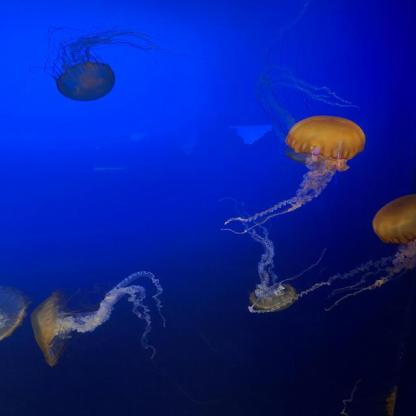jellyfish: (286, 115, 365, 160), (32, 291, 68, 367), (57, 62, 118, 102), (372, 192, 416, 244), (0, 286, 28, 347), (250, 284, 296, 312)
